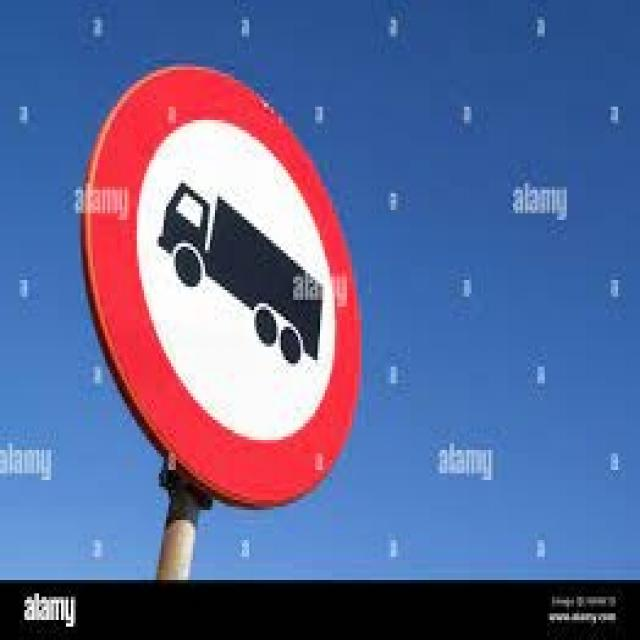do_not_enter: (67, 51, 380, 508)
